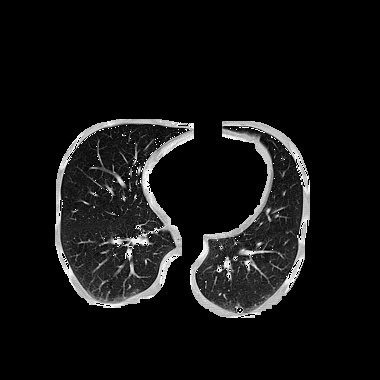PN: (235, 306, 243, 314)
